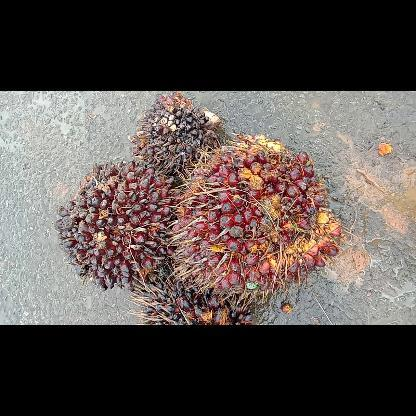Kurang masak: (55, 160, 175, 289)
TBS abnormal: (131, 91, 219, 171), (140, 282, 254, 324)
TBS masak: (176, 134, 340, 294)
